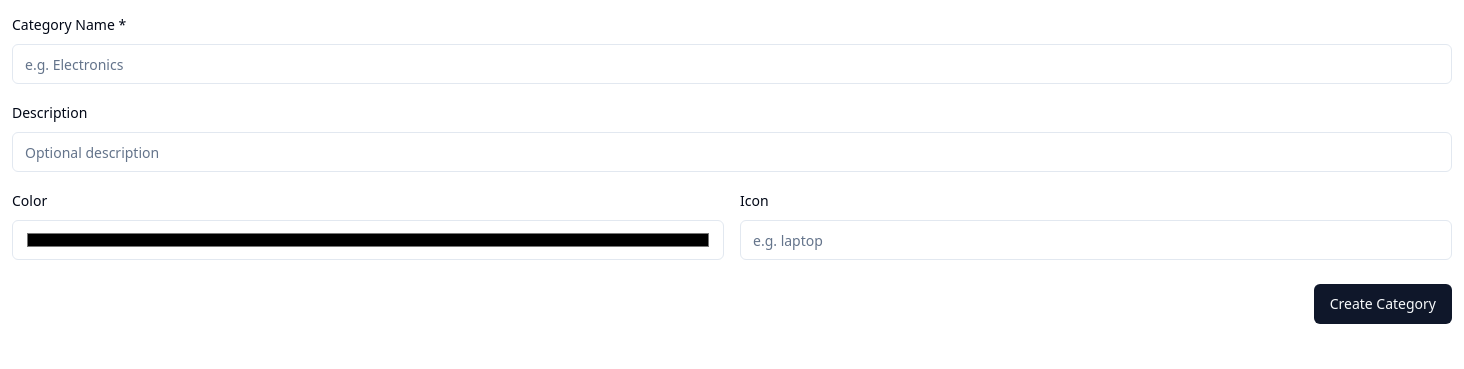
Test case: CategoryForm › shows validation error for empty name
Click the button "Create Category".
click(1383, 304)  # box [1314,284,1452,324]
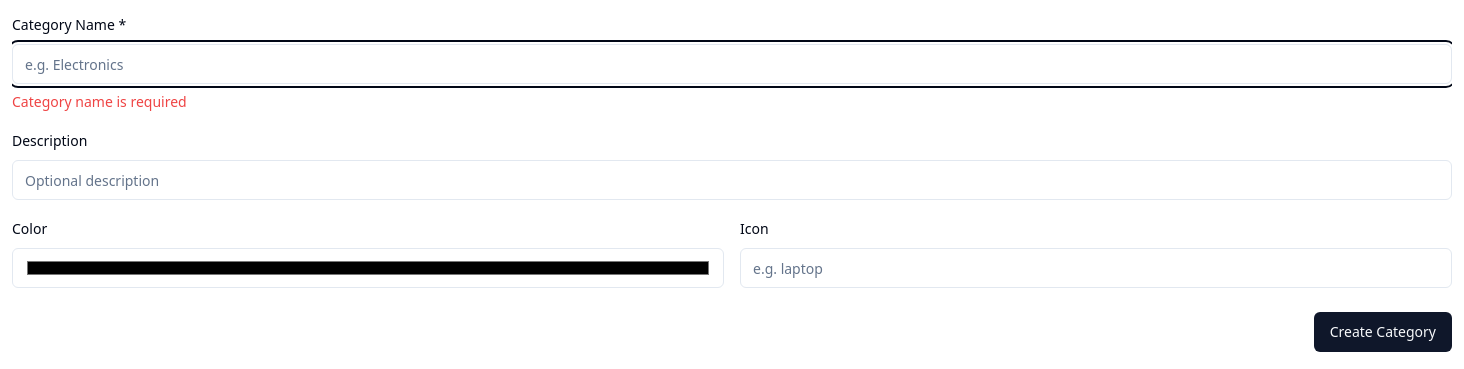
Now the text "Category name is required" is shown, box [12,92,187,111]
